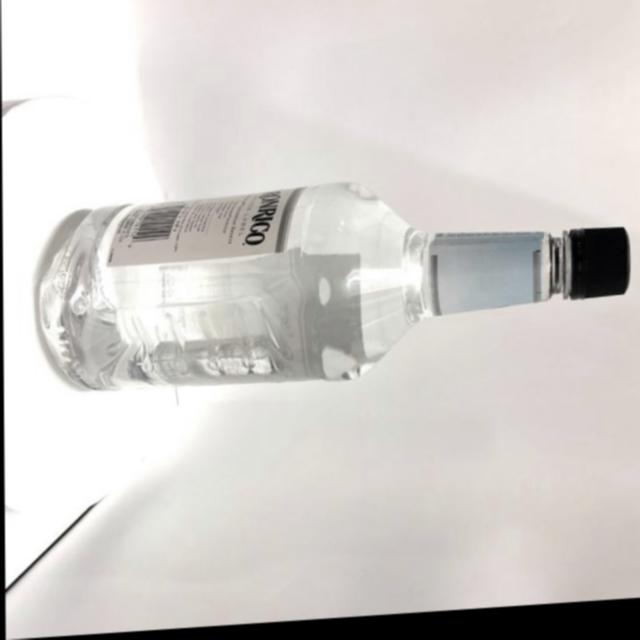RONRICO-SILVER-CARIBBEAN-RUM-PET-1.75L: (32, 175, 629, 406)
